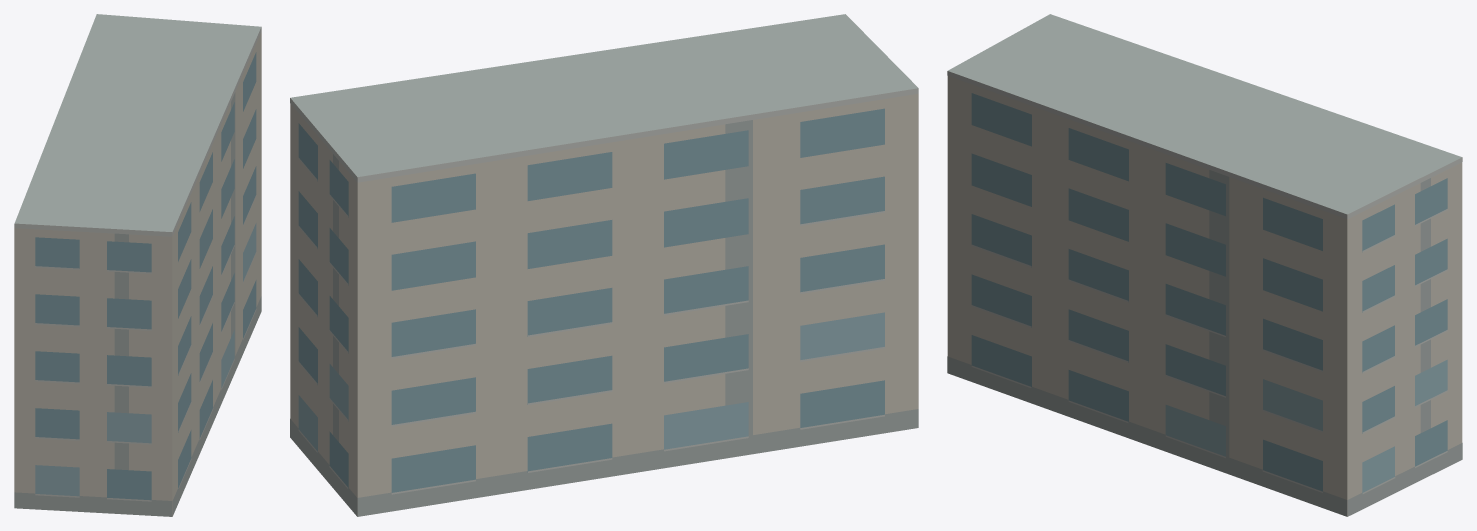
File: survey-upis-32889114.glb
3 renders of one model, left to right at view 1: azimuth 30°, elevation 25°; view 2: azimuth 150°, elevation 25°; view 3: azimuth 270°, elevation 25°, orthographic. The views are drawn at different scales.
Parts seen in each view (by area): view 1: survey-upis-32889114.tmp; view 2: survey-upis-32889114.tmp; view 3: survey-upis-32889114.tmp.
Boxes of the visible parts, <box> form: survey-upis-32889114.tmp: <box>14,14,261,516</box>; survey-upis-32889114.tmp: <box>290,14,918,516</box>; survey-upis-32889114.tmp: <box>947,14,1462,516</box>.
Bounding box in the file's own units: 21.7 × 15.25 × 23.54.
